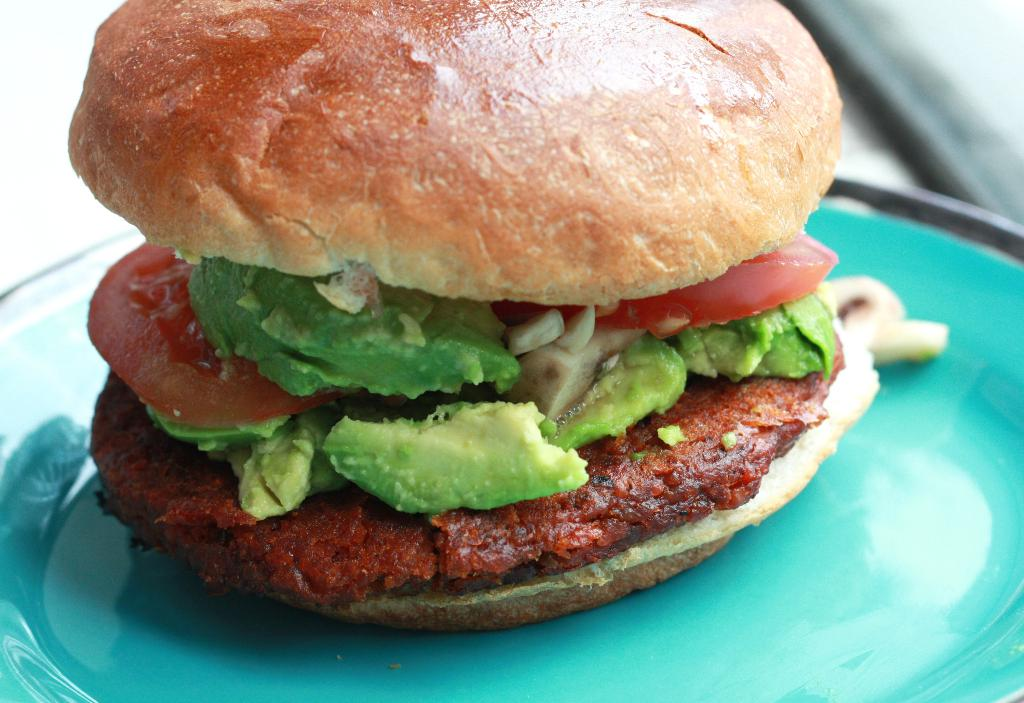Hamburger: (62, 0, 942, 636)
